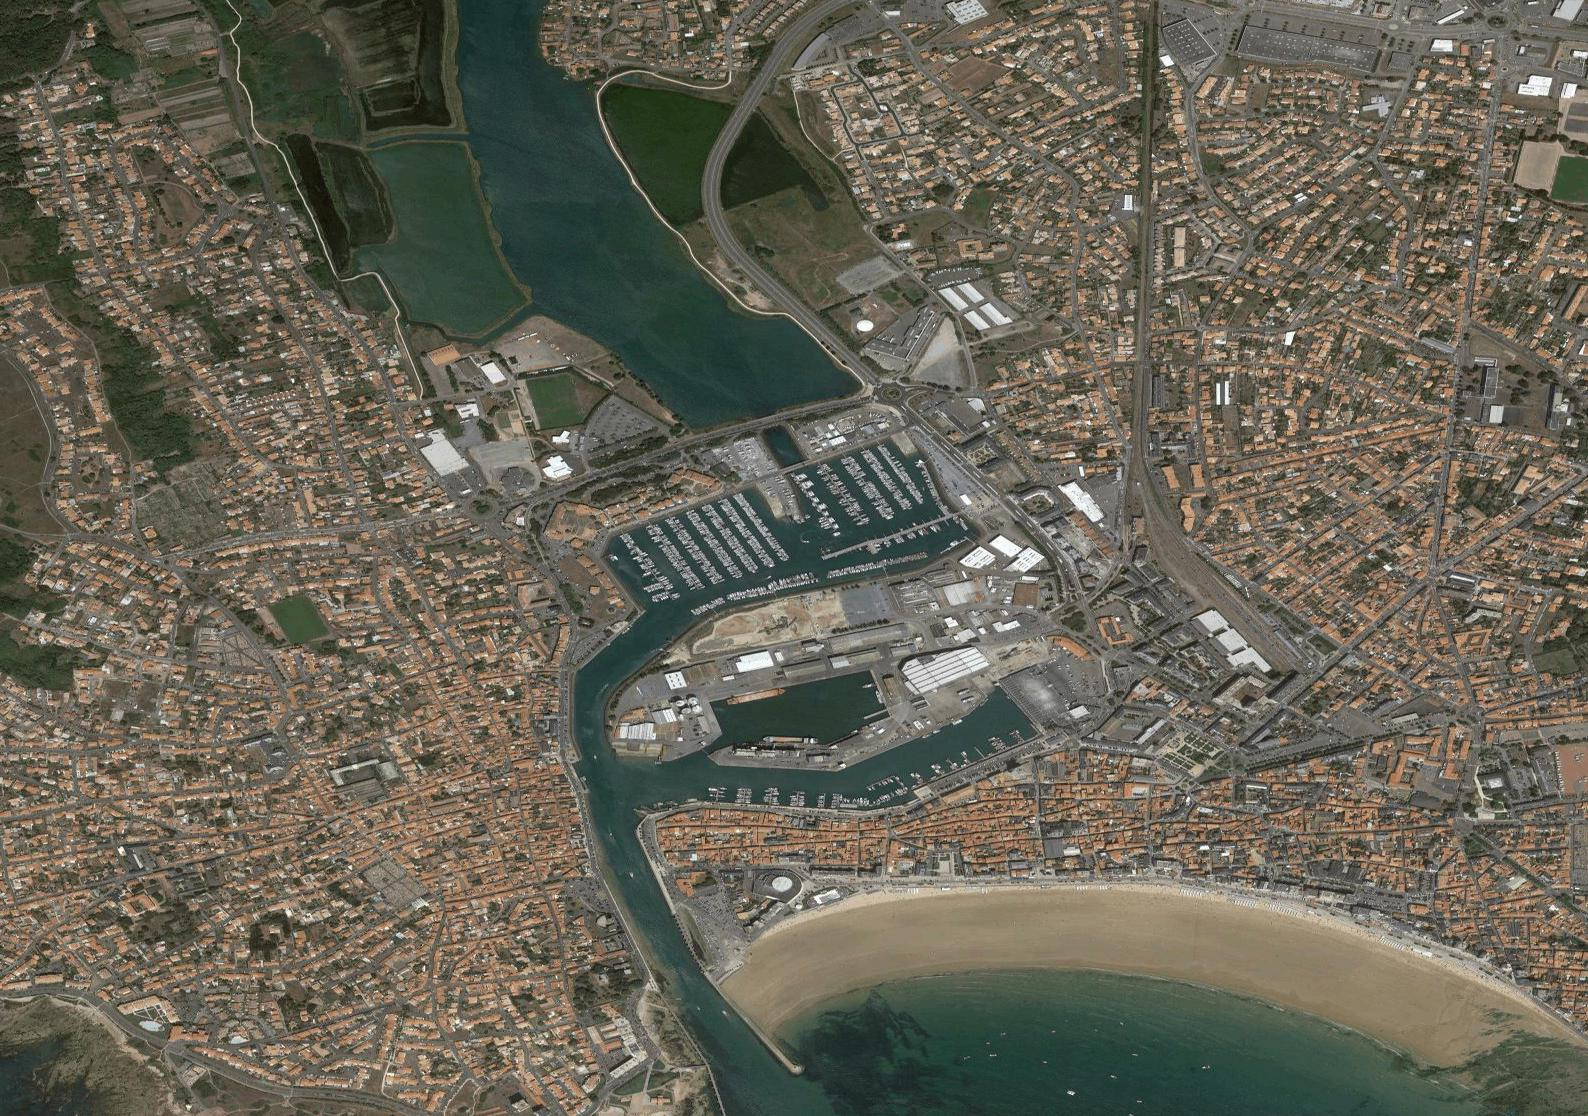harbor: (543, 449, 1055, 882)
motorway: (700, 210, 826, 337), (741, 1, 849, 89), (697, 87, 769, 211), (812, 332, 879, 389)
